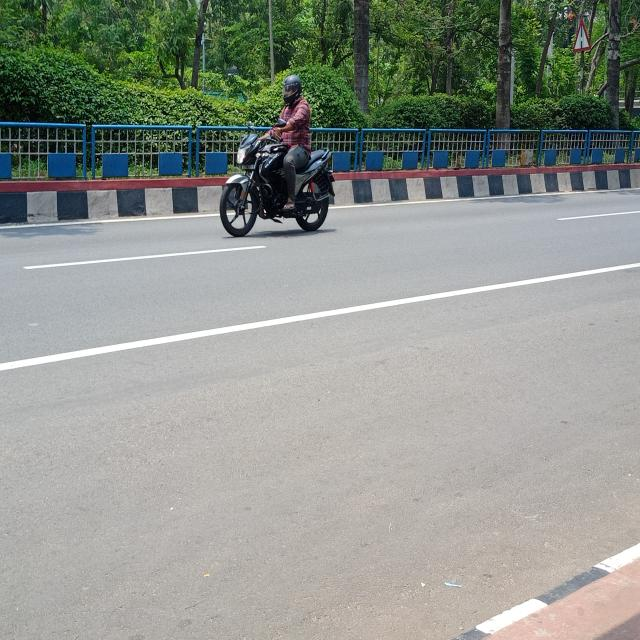bike: (208, 127, 348, 240)
